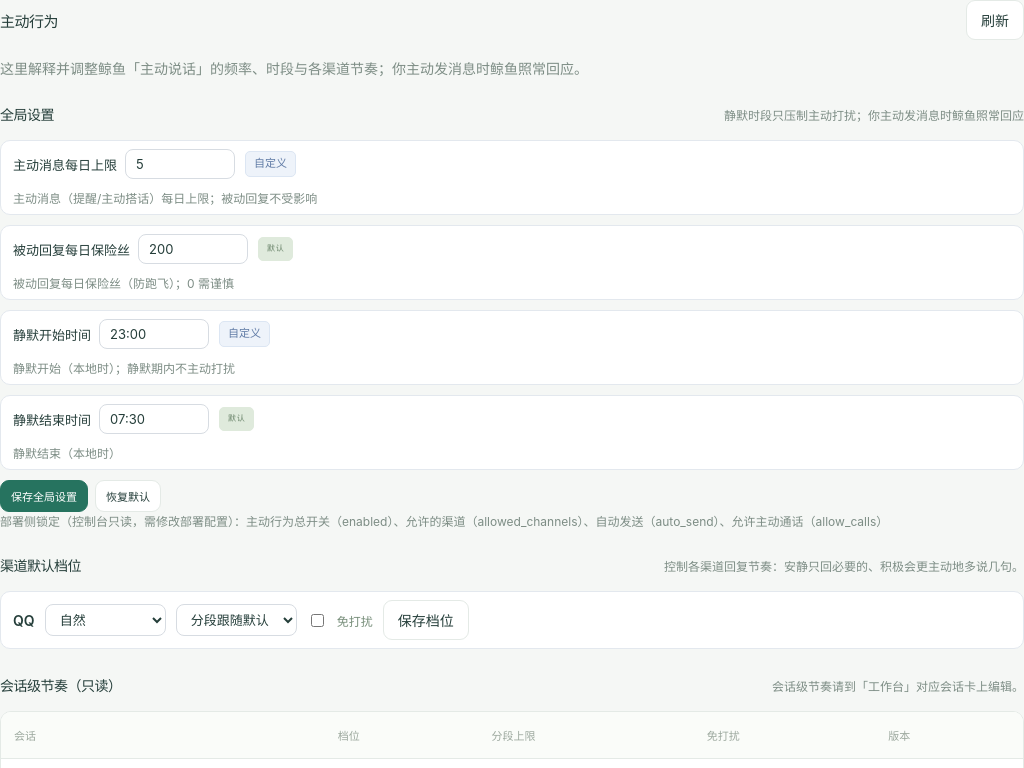
Test: Initiative 主动行为控制面板（issue #42） › 保存：只提交改动字段的 PUT body；恢复默认走 reset
The width and height of the screenshot is (1024, 768).
Replace the text in the field labelled "主动消息每日上限" with "8" at (180, 164), box [125,149,235,179]
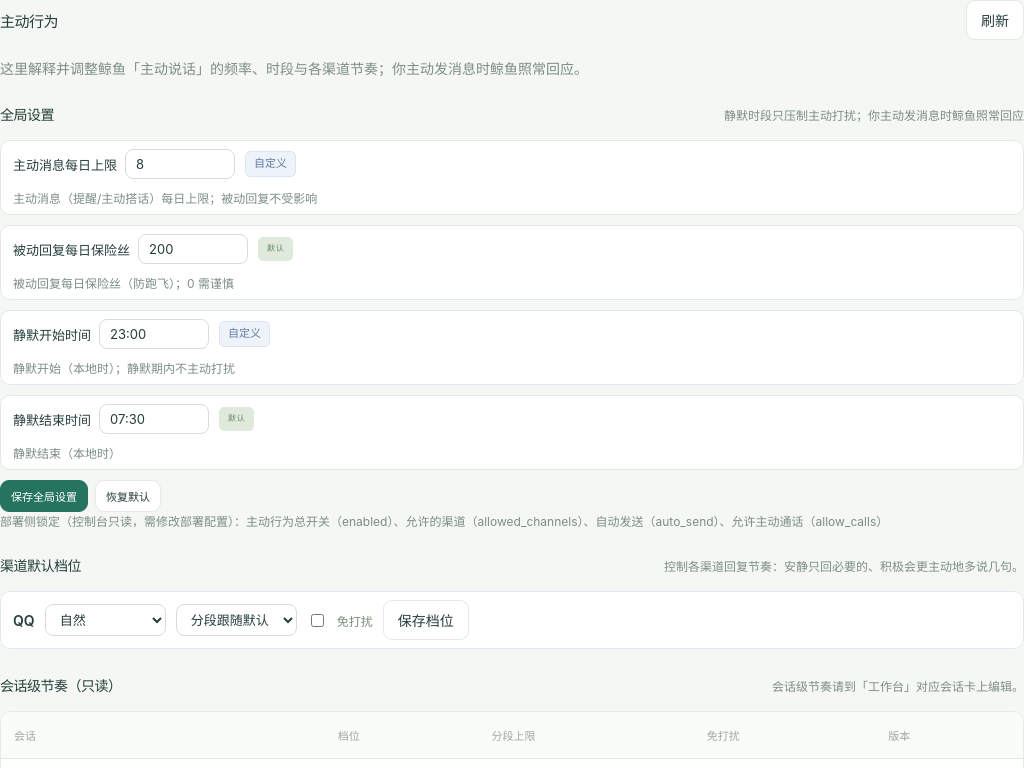
Click the button "保存全局设置" at (44, 496), box [0,480,88,512]
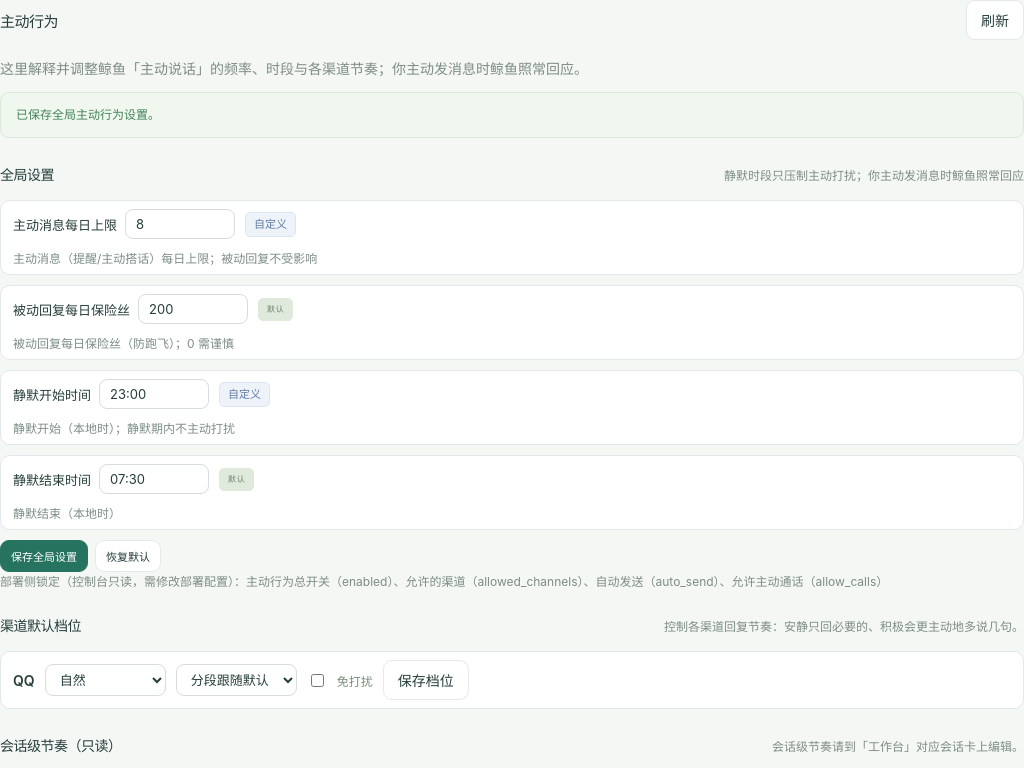
Result: the text "已保存全局主动行为设置。" is shown at [0,92,1023,138]
Click the button "恢复默认" at (128, 556), box [95,540,161,572]
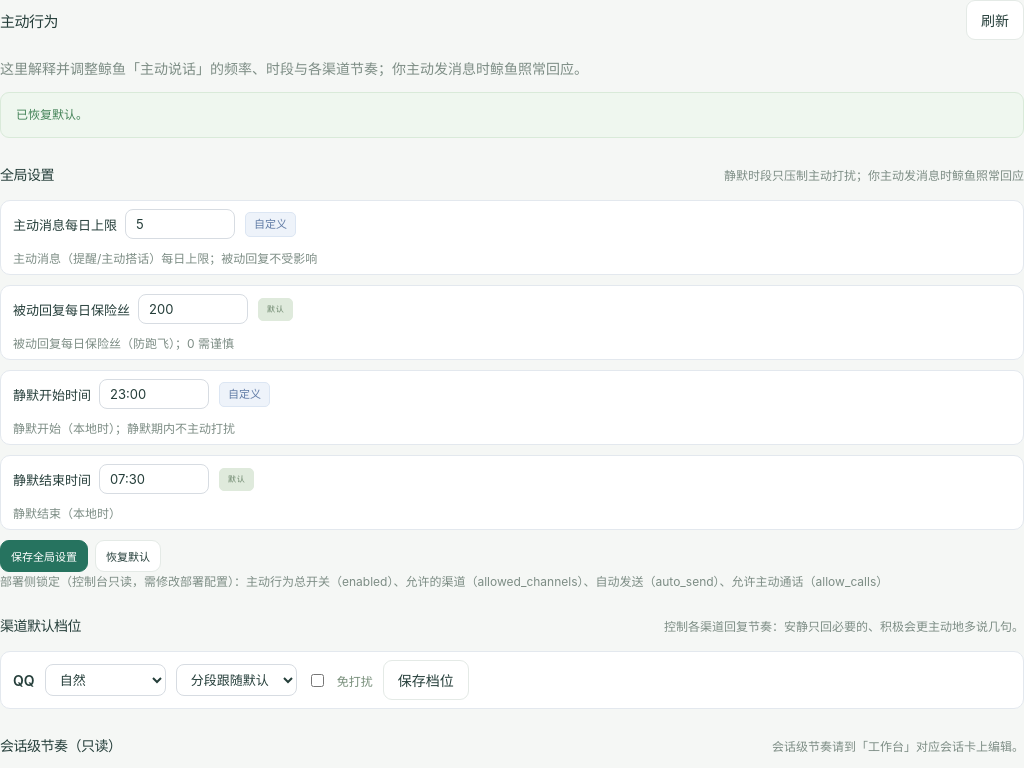
Result: the text "已恢复默认。" is shown at [0,92,1023,138]
